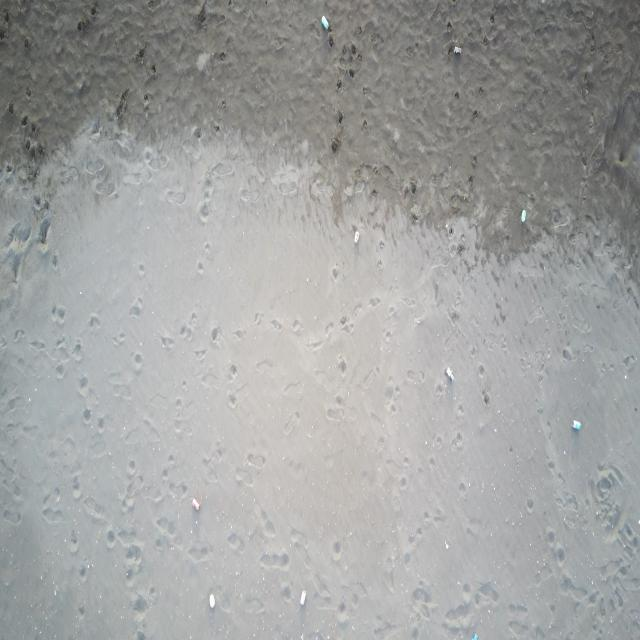tin-and-aluminum-cans: (446, 366, 455, 384), (190, 496, 200, 511), (571, 418, 581, 432), (321, 14, 329, 30), (520, 209, 528, 225), (209, 593, 215, 611), (300, 589, 306, 605), (354, 231, 360, 245), (454, 46, 462, 55), (472, 633, 477, 640)
